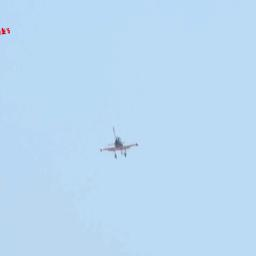Airplane: (99, 127, 140, 161)
